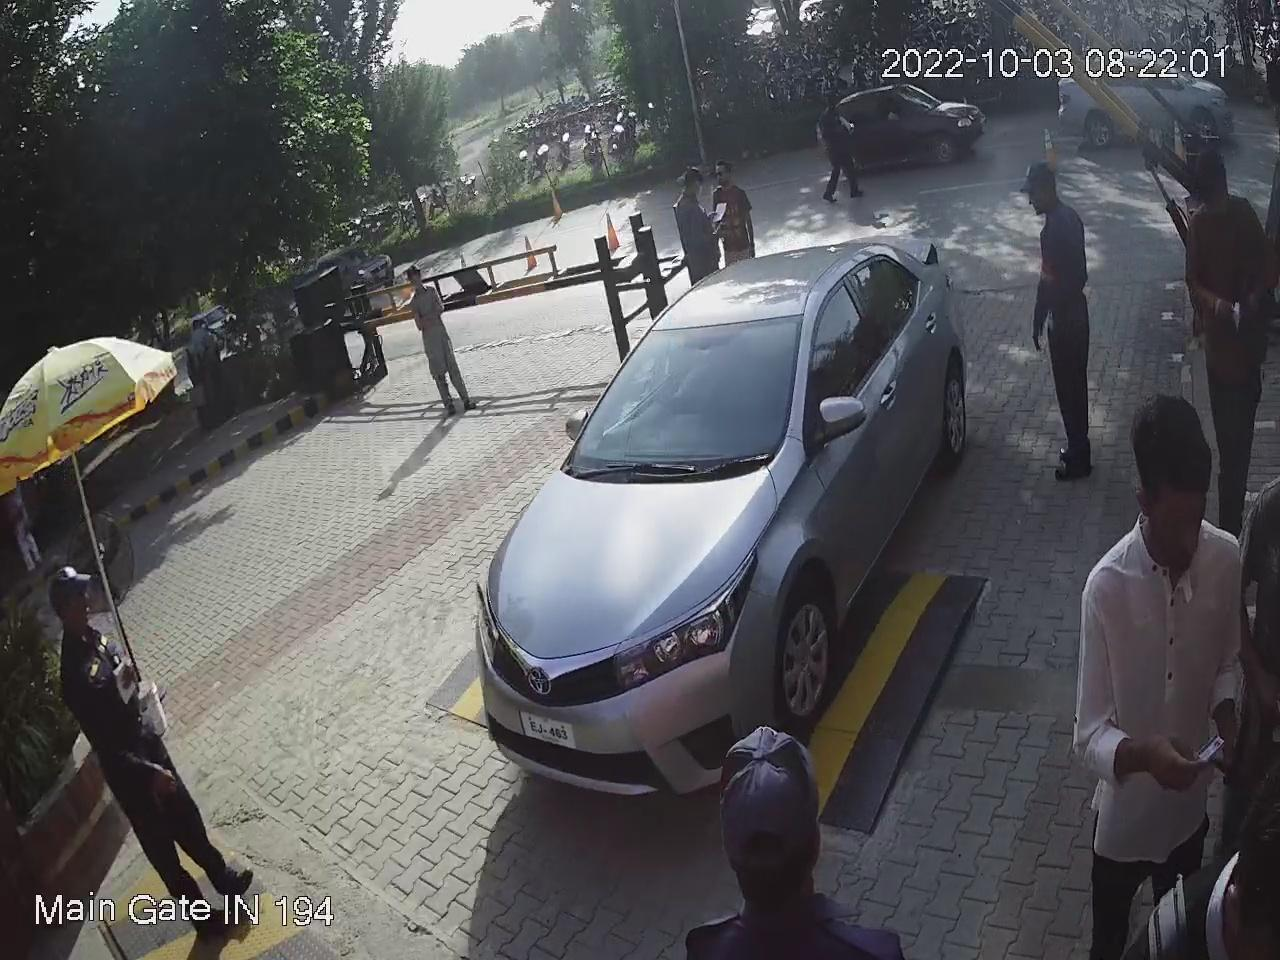windshield: (558, 303, 820, 487)
